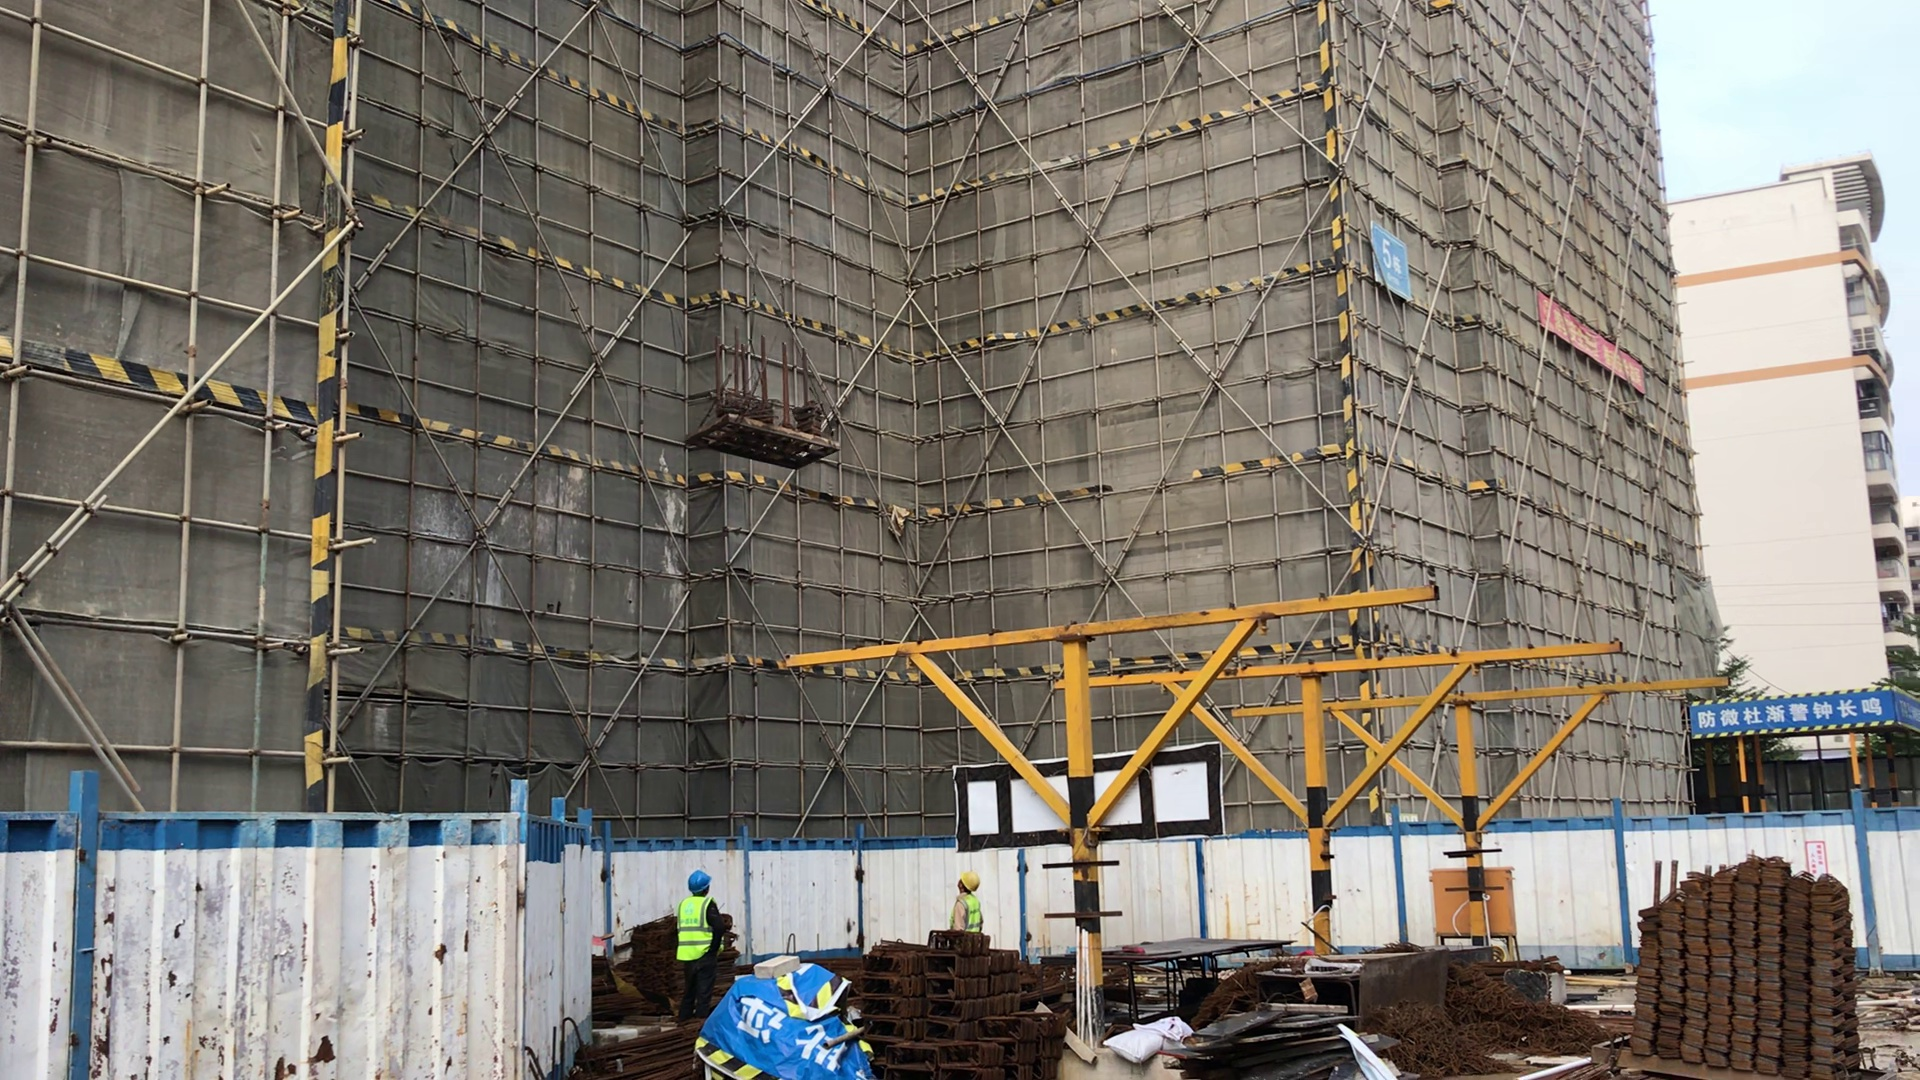helmet: (688, 869, 711, 893), (960, 870, 980, 891)
person: (673, 868, 724, 1020), (948, 871, 985, 933)
slogan: (1535, 293, 1646, 393), (1690, 684, 1889, 726)
vest: (674, 895, 723, 960), (958, 895, 981, 932)
